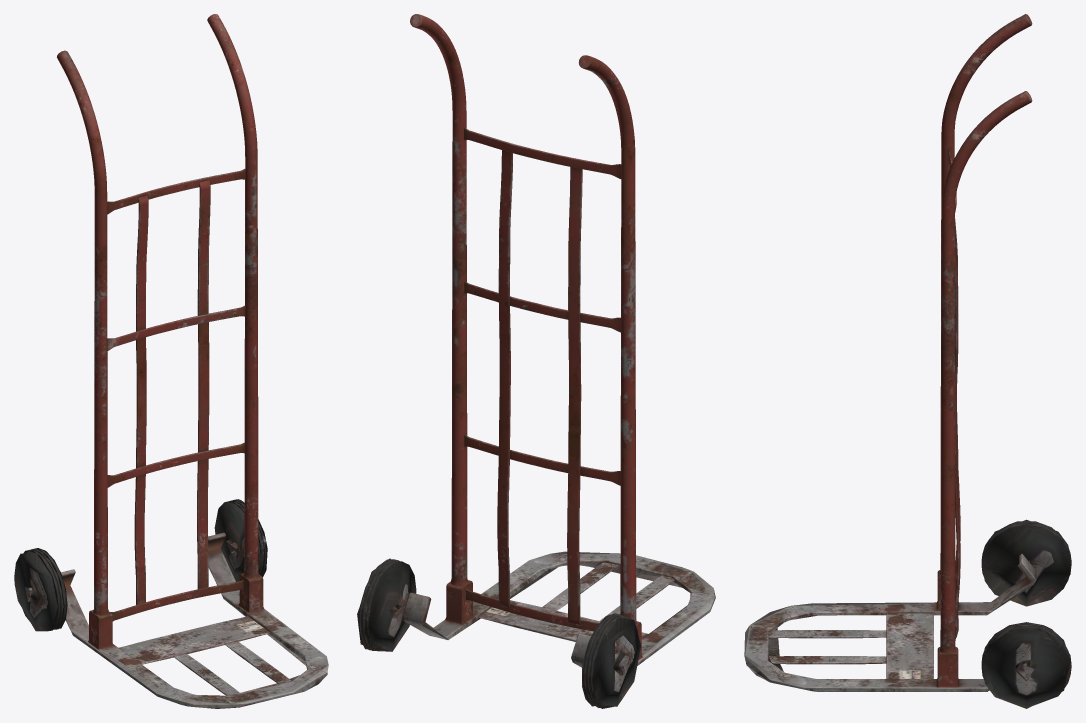
File: hand_truck_512.glb
The picture shows the model from 3 angles, left to right: view 1: azimuth 30°, elevation 25°; view 2: azimuth 150°, elevation 25°; view 3: azimuth 270°, elevation 25°; orthographic projection. The views are drawn at different scales.
Parts seen in each view (by area): view 1: hand_truck; view 2: hand_truck; view 3: hand_truck.
Part boxes in pixels (x1,y1,x2,y2): hand_truck: (14, 14, 328, 708); hand_truck: (357, 14, 715, 708); hand_truck: (744, 14, 1071, 708).
Bounding box in the file's own units: 0.5789 × 1.4 × 0.6922.
1 material, 1 textured.
